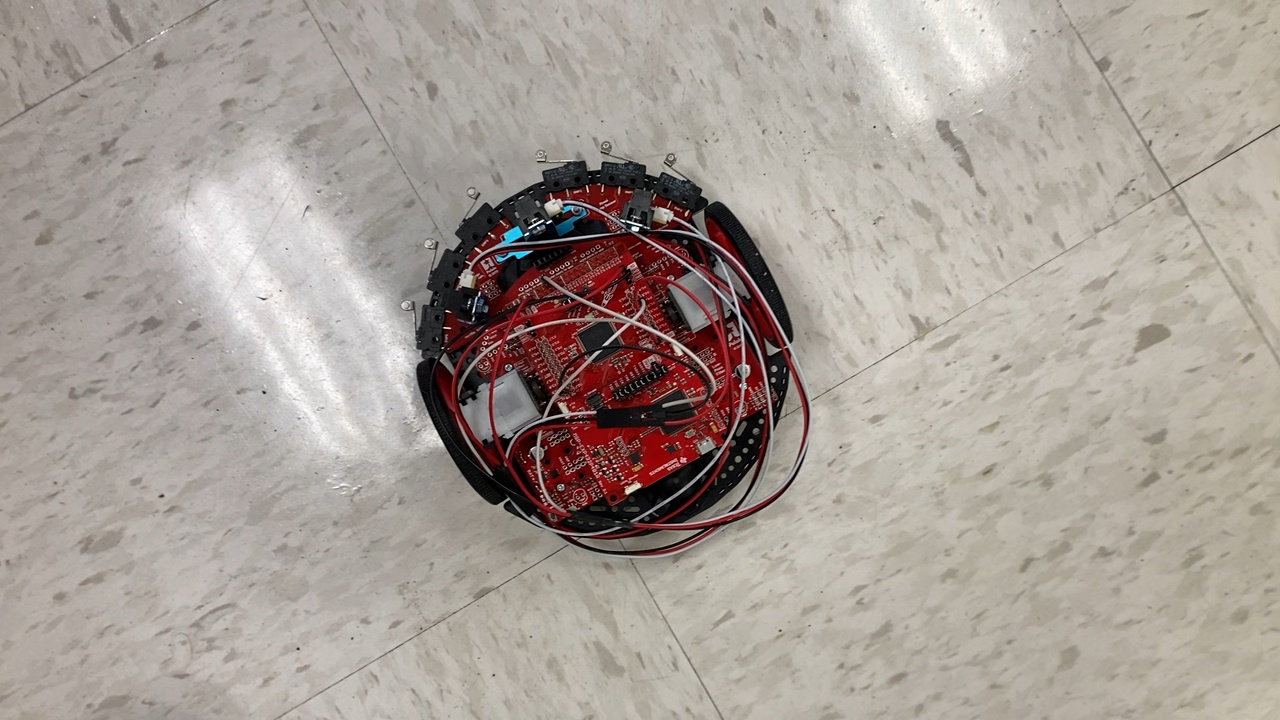robot: (396, 136, 817, 568)
